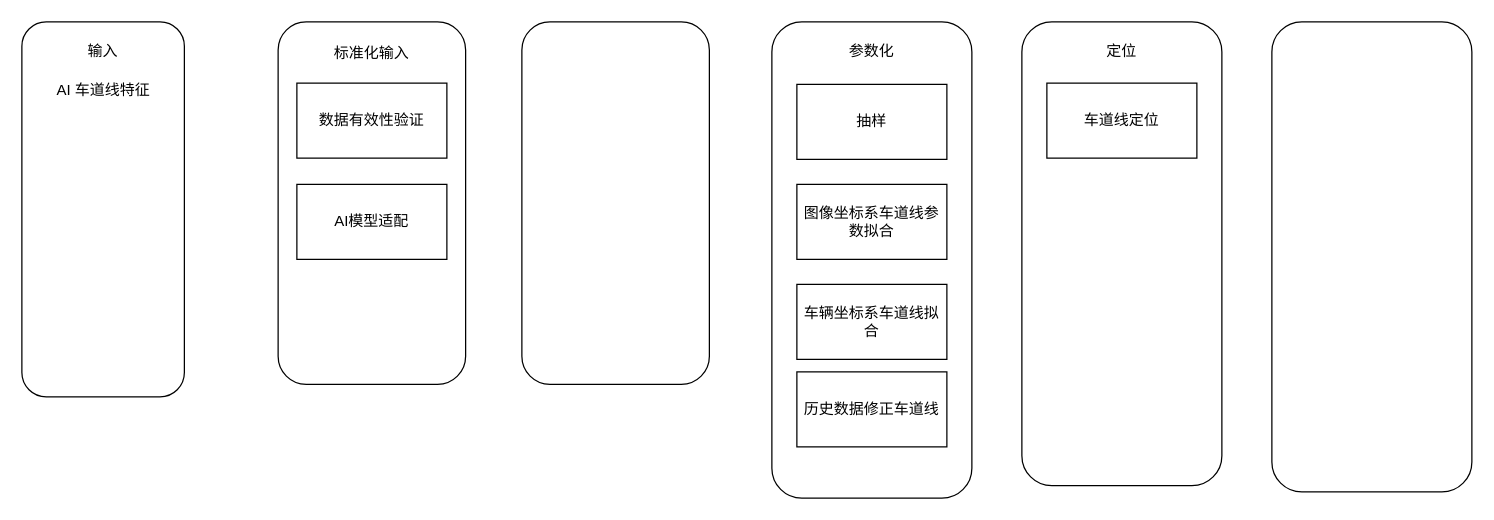
This 1494x520 diagram has some shape labels left out. The centre of each missing label's shape, as x and y in pixels:
"内边缘检测" belongs at (x=615, y=202).
"跟踪" belongs at (x=1371, y=256).
